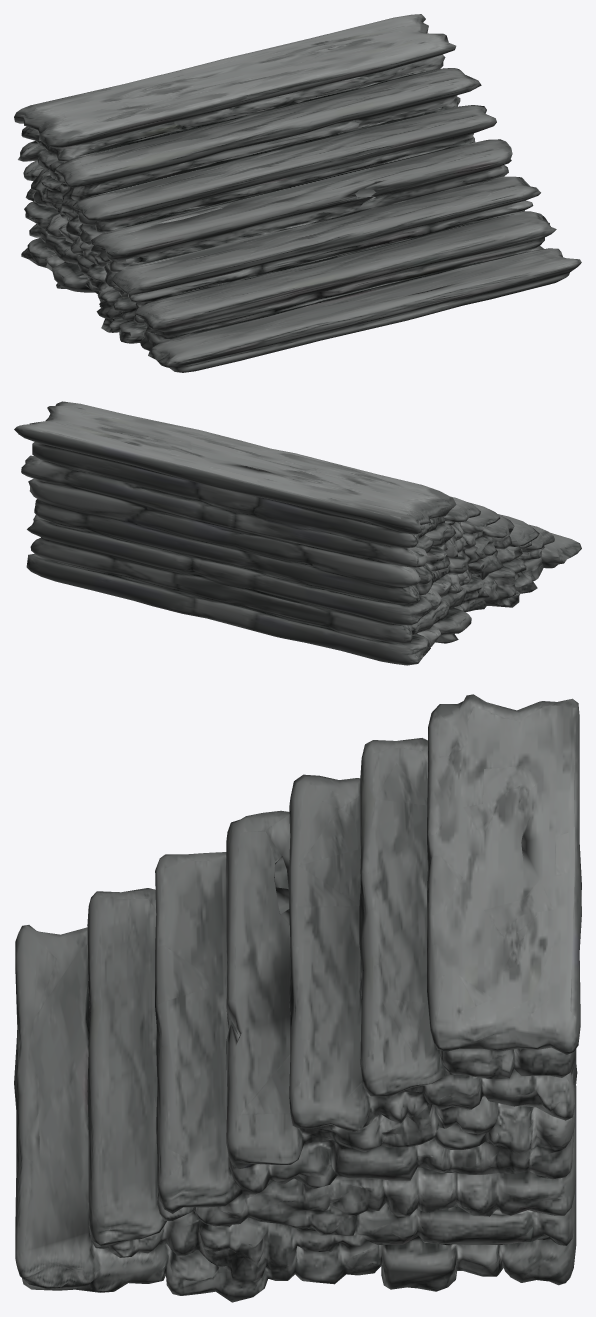
Rendered from wide stone steps.glb.
The picture shows the model from 3 angles, top to bottom: view 1: azimuth 30°, elevation 25°; view 2: azimuth 150°, elevation 25°; view 3: azimuth 270°, elevation 25°; orthographic projection. The views are drawn at different scales.
Visible parts, largest first — view 1: Mesh_0; view 2: Mesh_0; view 3: Mesh_0.
Boxes of the visible parts, box(x1,y1,x2,y2) form: Mesh_0: box(14, 14, 581, 372); Mesh_0: box(14, 401, 581, 665); Mesh_0: box(14, 694, 581, 1302).
Bounding box in the file's own units: 2.82 × 0.9902 × 1.91.
1 material, 1 textured.
